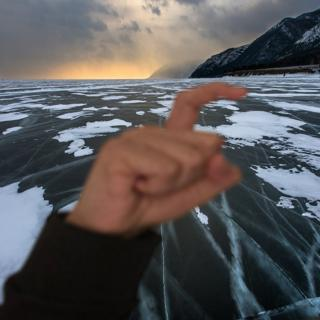WHY: (69, 77, 253, 236)
